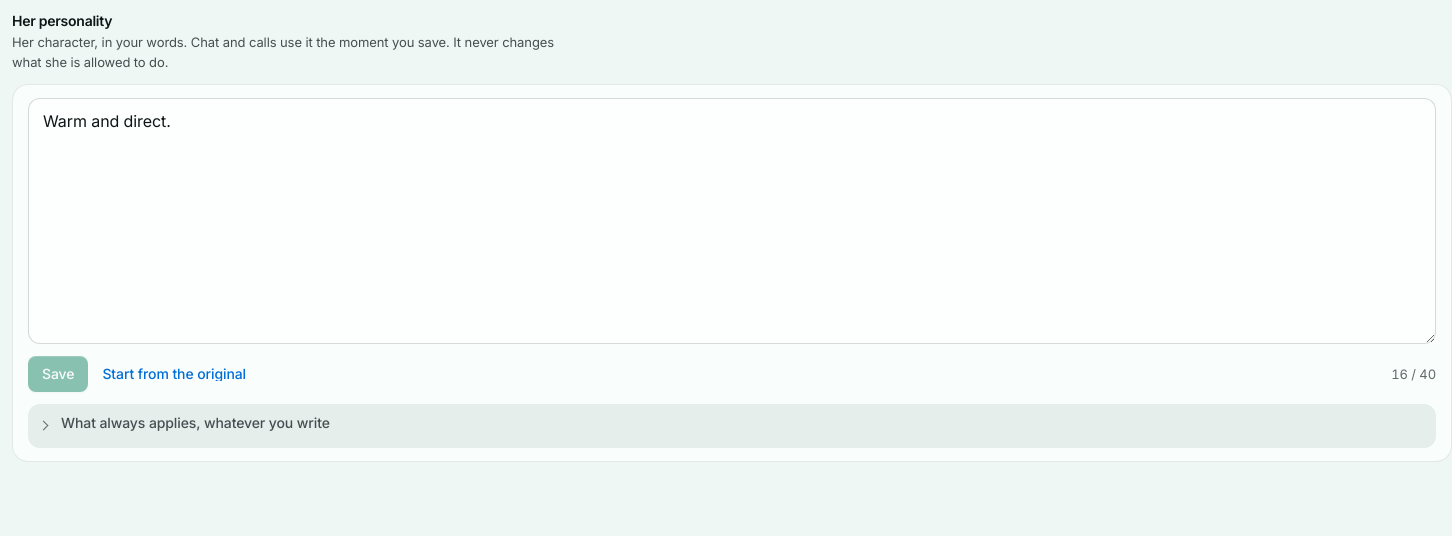
Test: her personality › says the backend is unreachable when a save cannot leave
In the text box named "Personality": (732, 221) [28,98,1436,344], type "!"
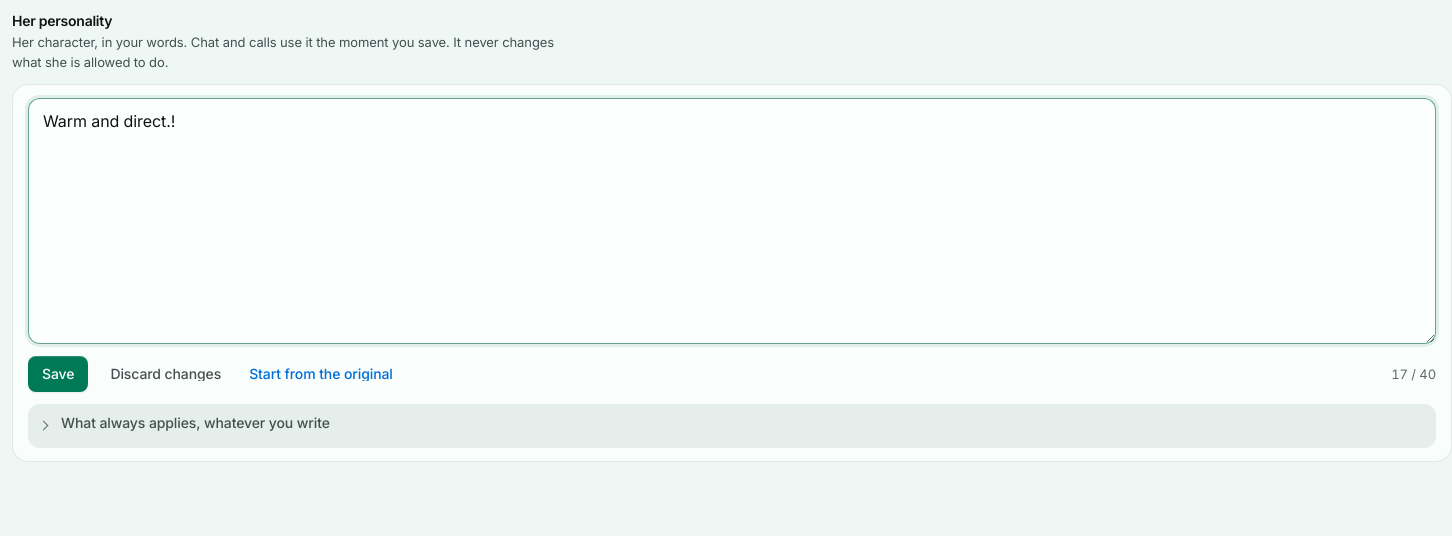
Click the button "Save": (58, 374) [28,356,88,392]
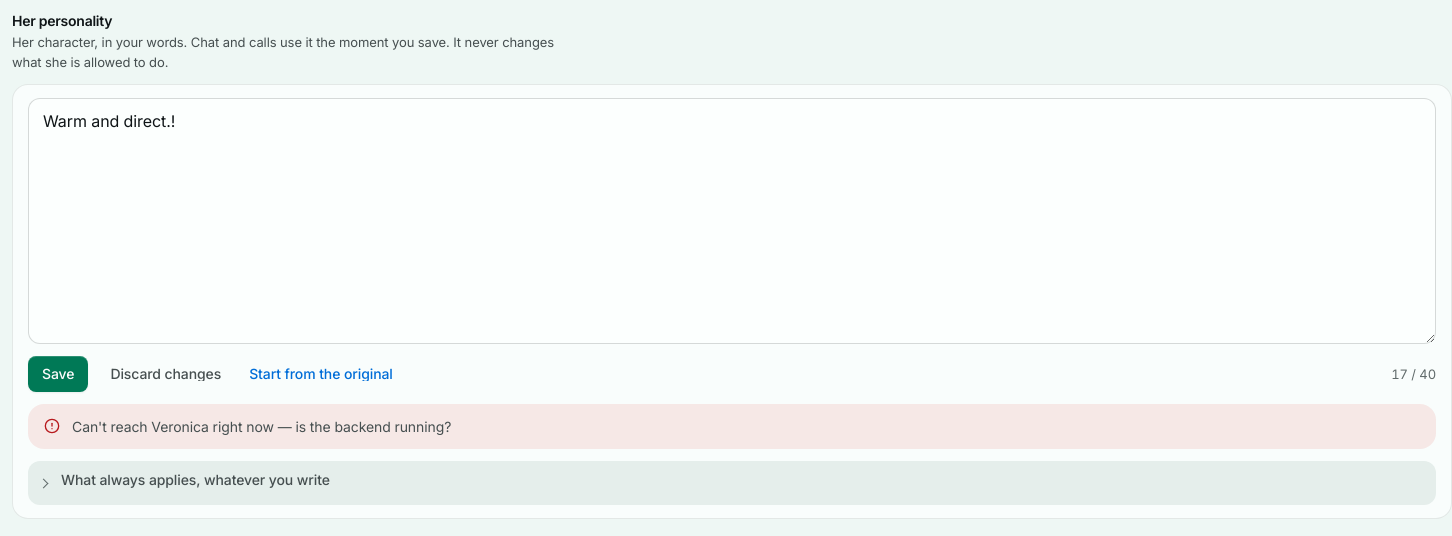
Now the text "Can't reach Veronica right now — is the backend running?" is shown, box [72,418,451,435]
